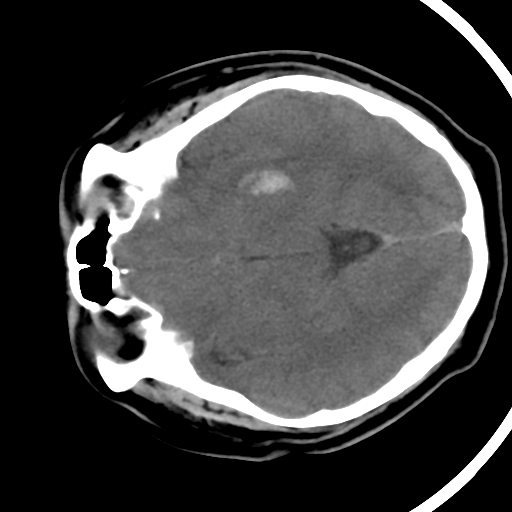a: (210, 145, 316, 209)
